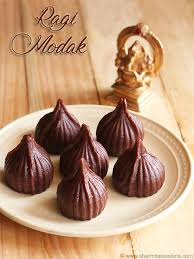modak: (9, 136, 166, 218), (33, 95, 148, 150)
